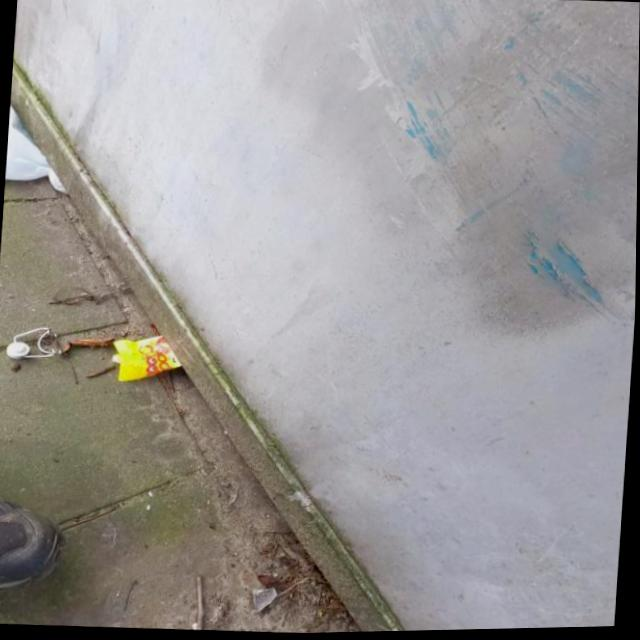Plastic: (110, 333, 185, 386)
